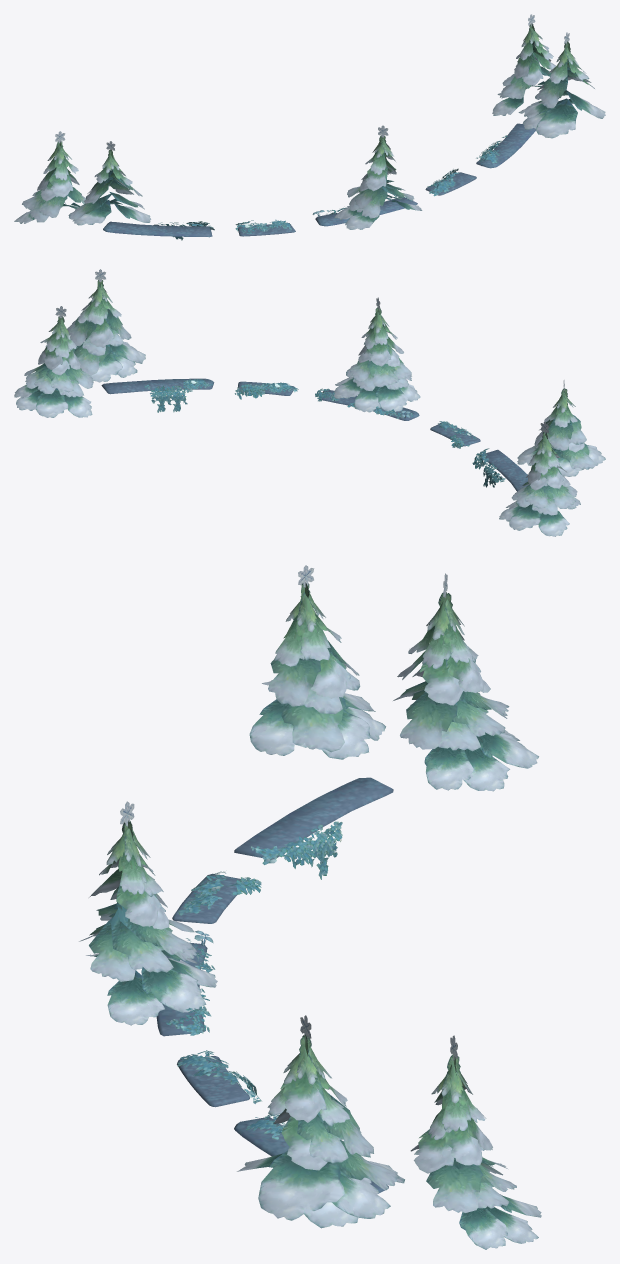
The model's file is pref_sm_beach_bk_winter_pointmol_tree_T01_lv1.fbx.
The picture shows the model from 3 angles, top to bottom: view 1: azimuth 30°, elevation 25°; view 2: azimuth 150°, elevation 25°; view 3: azimuth 270°, elevation 25°; orthographic projection. The views are drawn at different scales.
Parts seen in each view (by area): view 1: sm_beach_bk_winter_pointmol_tree_T01_lv1; view 2: sm_beach_bk_winter_pointmol_tree_T01_lv1; view 3: sm_beach_bk_winter_pointmol_tree_T01_lv1.
Part boxes in pixels (bbox=[...]): sm_beach_bk_winter_pointmol_tree_T01_lv1: bbox=[14, 14, 605, 240]; sm_beach_bk_winter_pointmol_tree_T01_lv1: bbox=[14, 269, 605, 536]; sm_beach_bk_winter_pointmol_tree_T01_lv1: bbox=[79, 565, 541, 1249].
Size of the model in its own units: 43.1 by 9.2 by 15.95.
